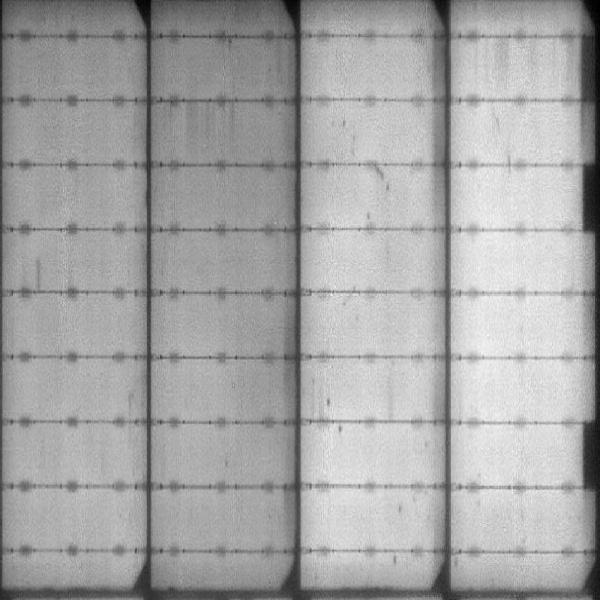black_border: (576, 32, 599, 112), (577, 414, 599, 496), (578, 161, 598, 239)
